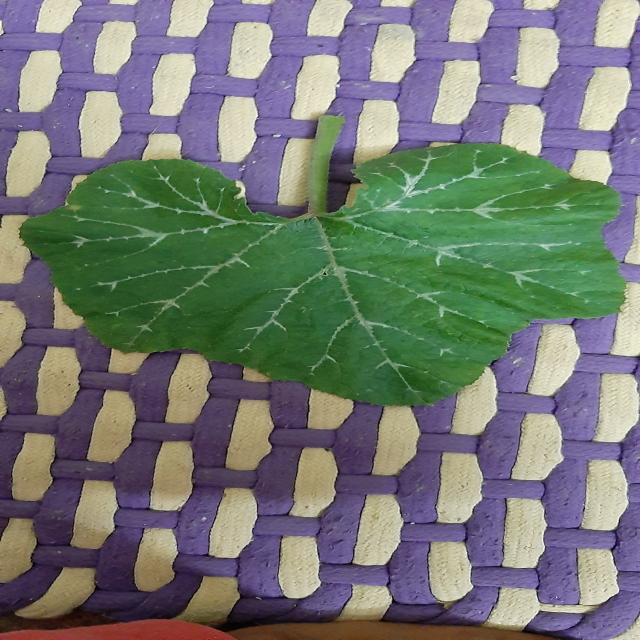pumpkin: (19, 116, 626, 405)
